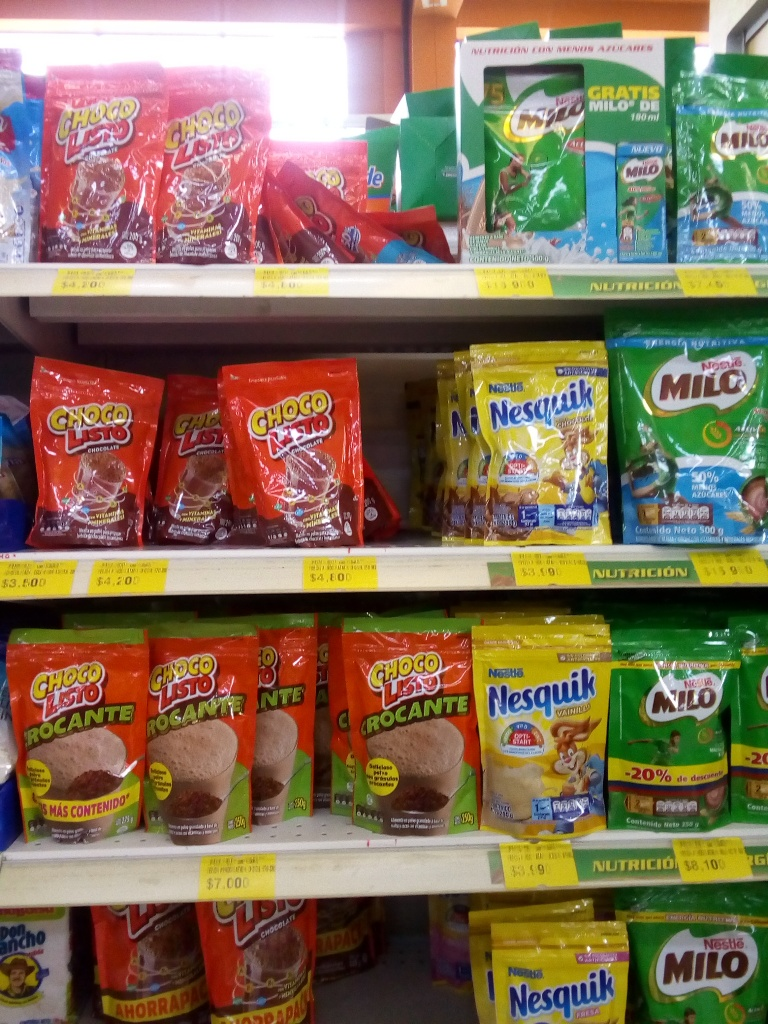COL0170102DYP25000: (116, 606, 245, 839)
COL0170103DYP20000: (42, 57, 151, 257)
COL0170103DYP44000: (87, 904, 199, 1022)
COL0170104DYP20000: (274, 162, 457, 266)
COL0170203DYP25000: (605, 601, 734, 837)
COL0170205DYP20000: (675, 61, 768, 264)
COL0170205DYP50000: (587, 296, 762, 544)
COL0170303DYP20000: (450, 343, 607, 543)
COL0170306DYP20000: (482, 611, 612, 840)
